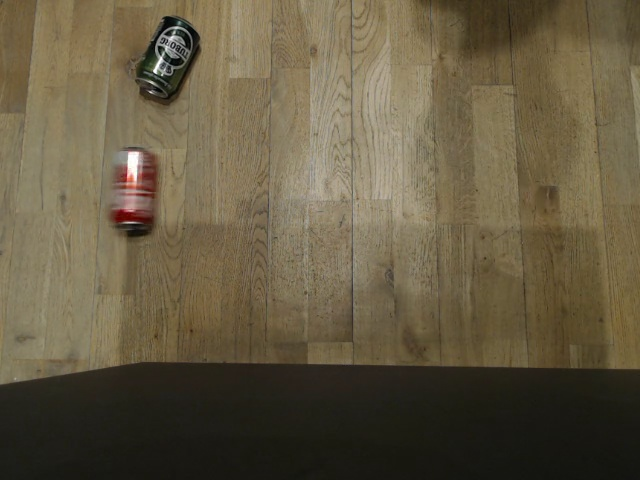beer: (131, 11, 204, 101)
cola: (110, 144, 156, 232)
